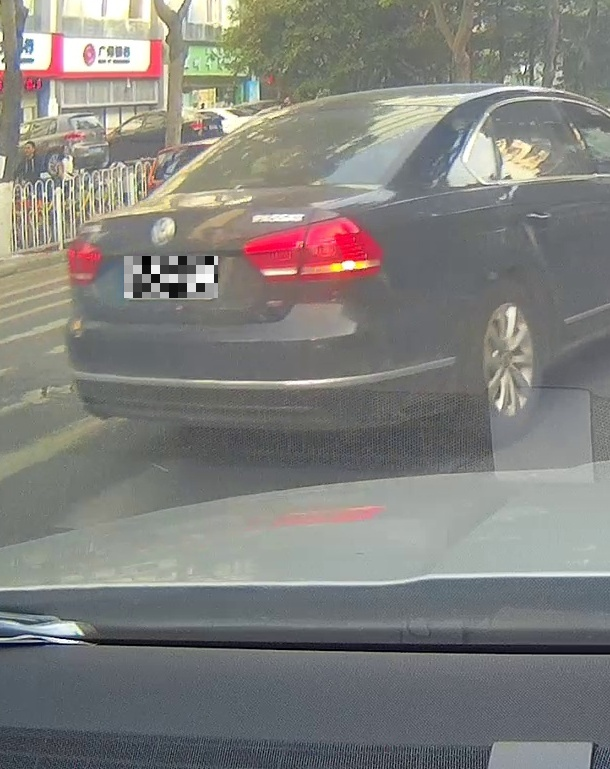L_light: (66, 237, 103, 286)
R_light: (240, 215, 384, 286)
T_light: (228, 177, 265, 189)
day-right: (65, 85, 459, 445)
plate_1: (124, 256, 218, 298)
